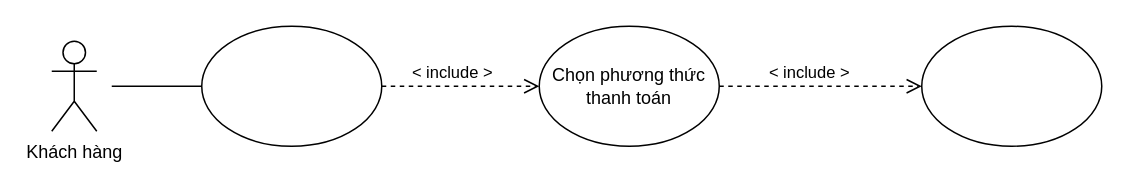
Image size: 1128x189. Some labels were removed from this diagram. The box of each missing label's shape, as (x1, y1, x2, y2) in pixels:
Thanh toán: (200, 25, 382, 146)
Xác thực bằng mật khẩu: (920, 25, 1102, 146)
